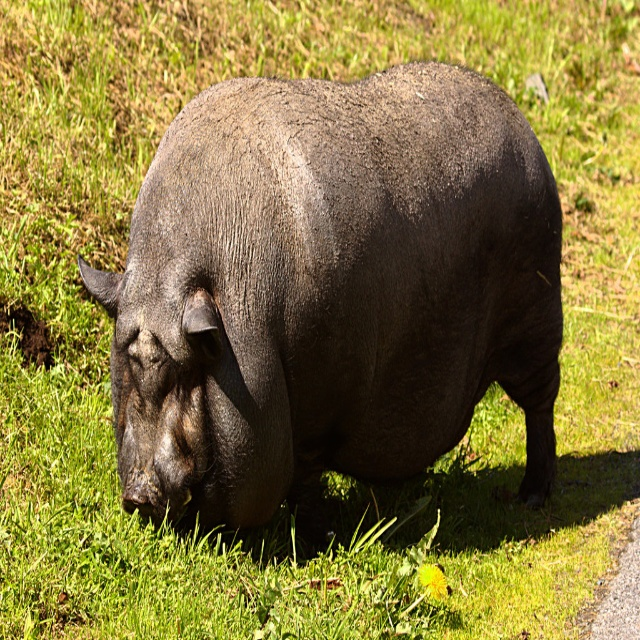Pig: (78, 56, 563, 540)
